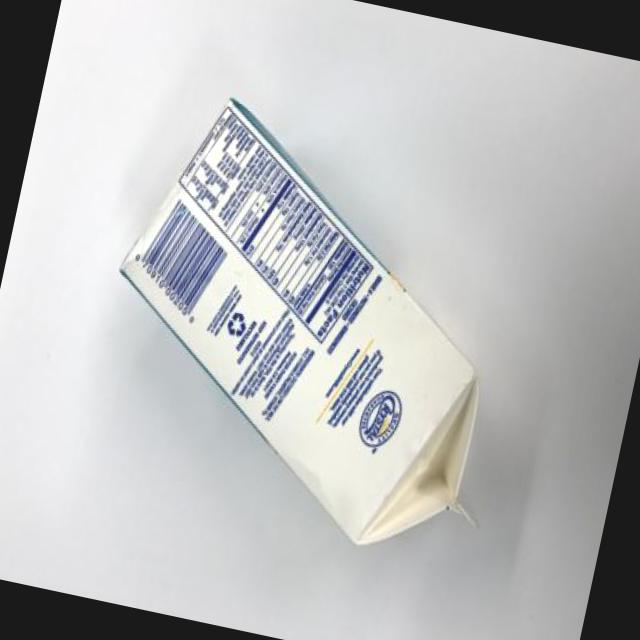paper: (92, 72, 541, 558)
